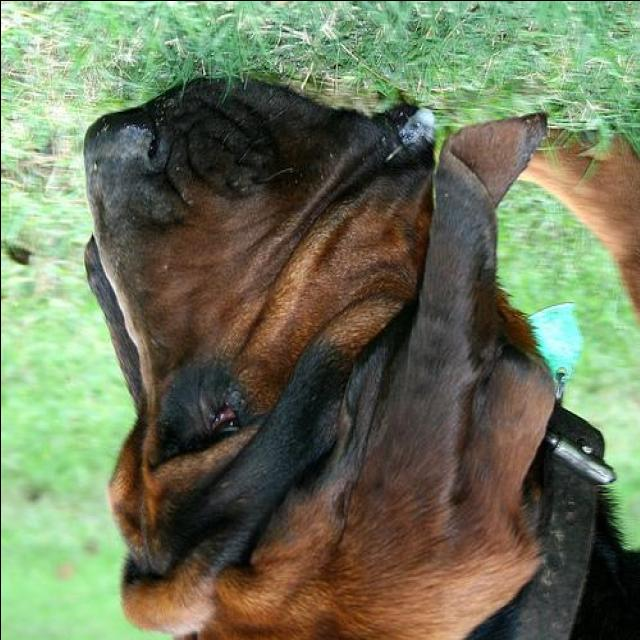bloodhound: (75, 75, 638, 640)
